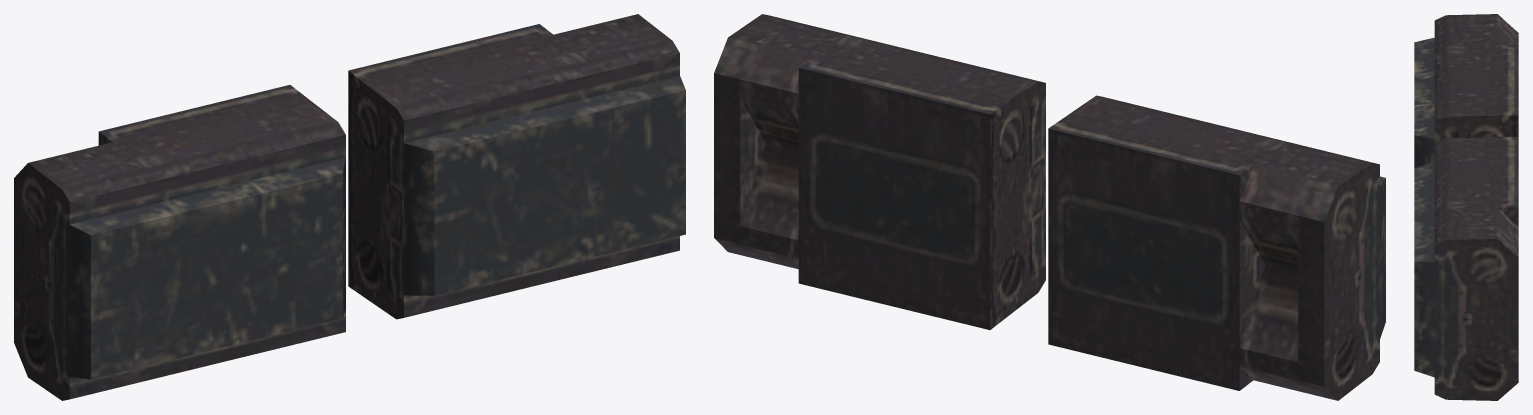
The picture shows the model from 3 angles, left to right: view 1: azimuth 30°, elevation 25°; view 2: azimuth 150°, elevation 25°; view 3: azimuth 270°, elevation 25°; orthographic projection. The views are drawn at different scales.
Parts seen in each view (by area): view 1: set_0_group_0; view 2: set_0_group_0; view 3: set_0_group_0.
Boxes of the visible parts, x1,y1,x2,y2 form: set_0_group_0: (14, 14, 685, 400); set_0_group_0: (714, 14, 1385, 400); set_0_group_0: (1414, 14, 1518, 400).
Size of the model in its own units: 0.5112 by 0.1727 by 0.1005.
Materials: 1 (1 with a texture image).
